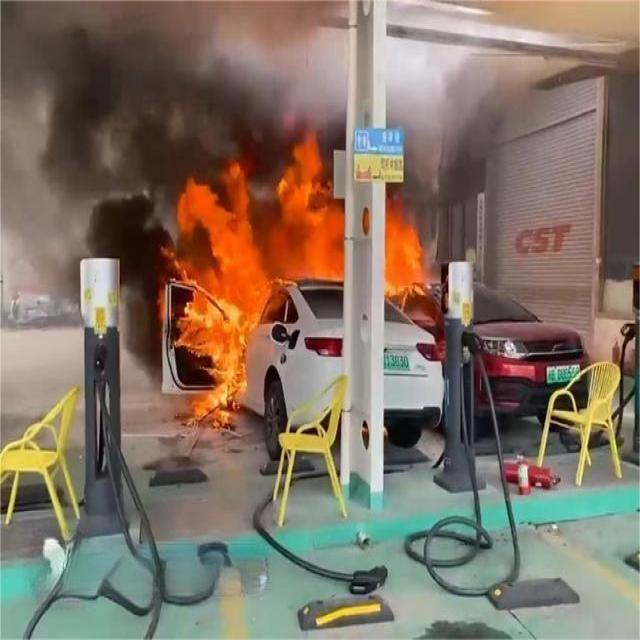Fire: (168, 128, 346, 280), (176, 278, 262, 426), (384, 197, 424, 301)
Smoke: (0, 0, 159, 268)
